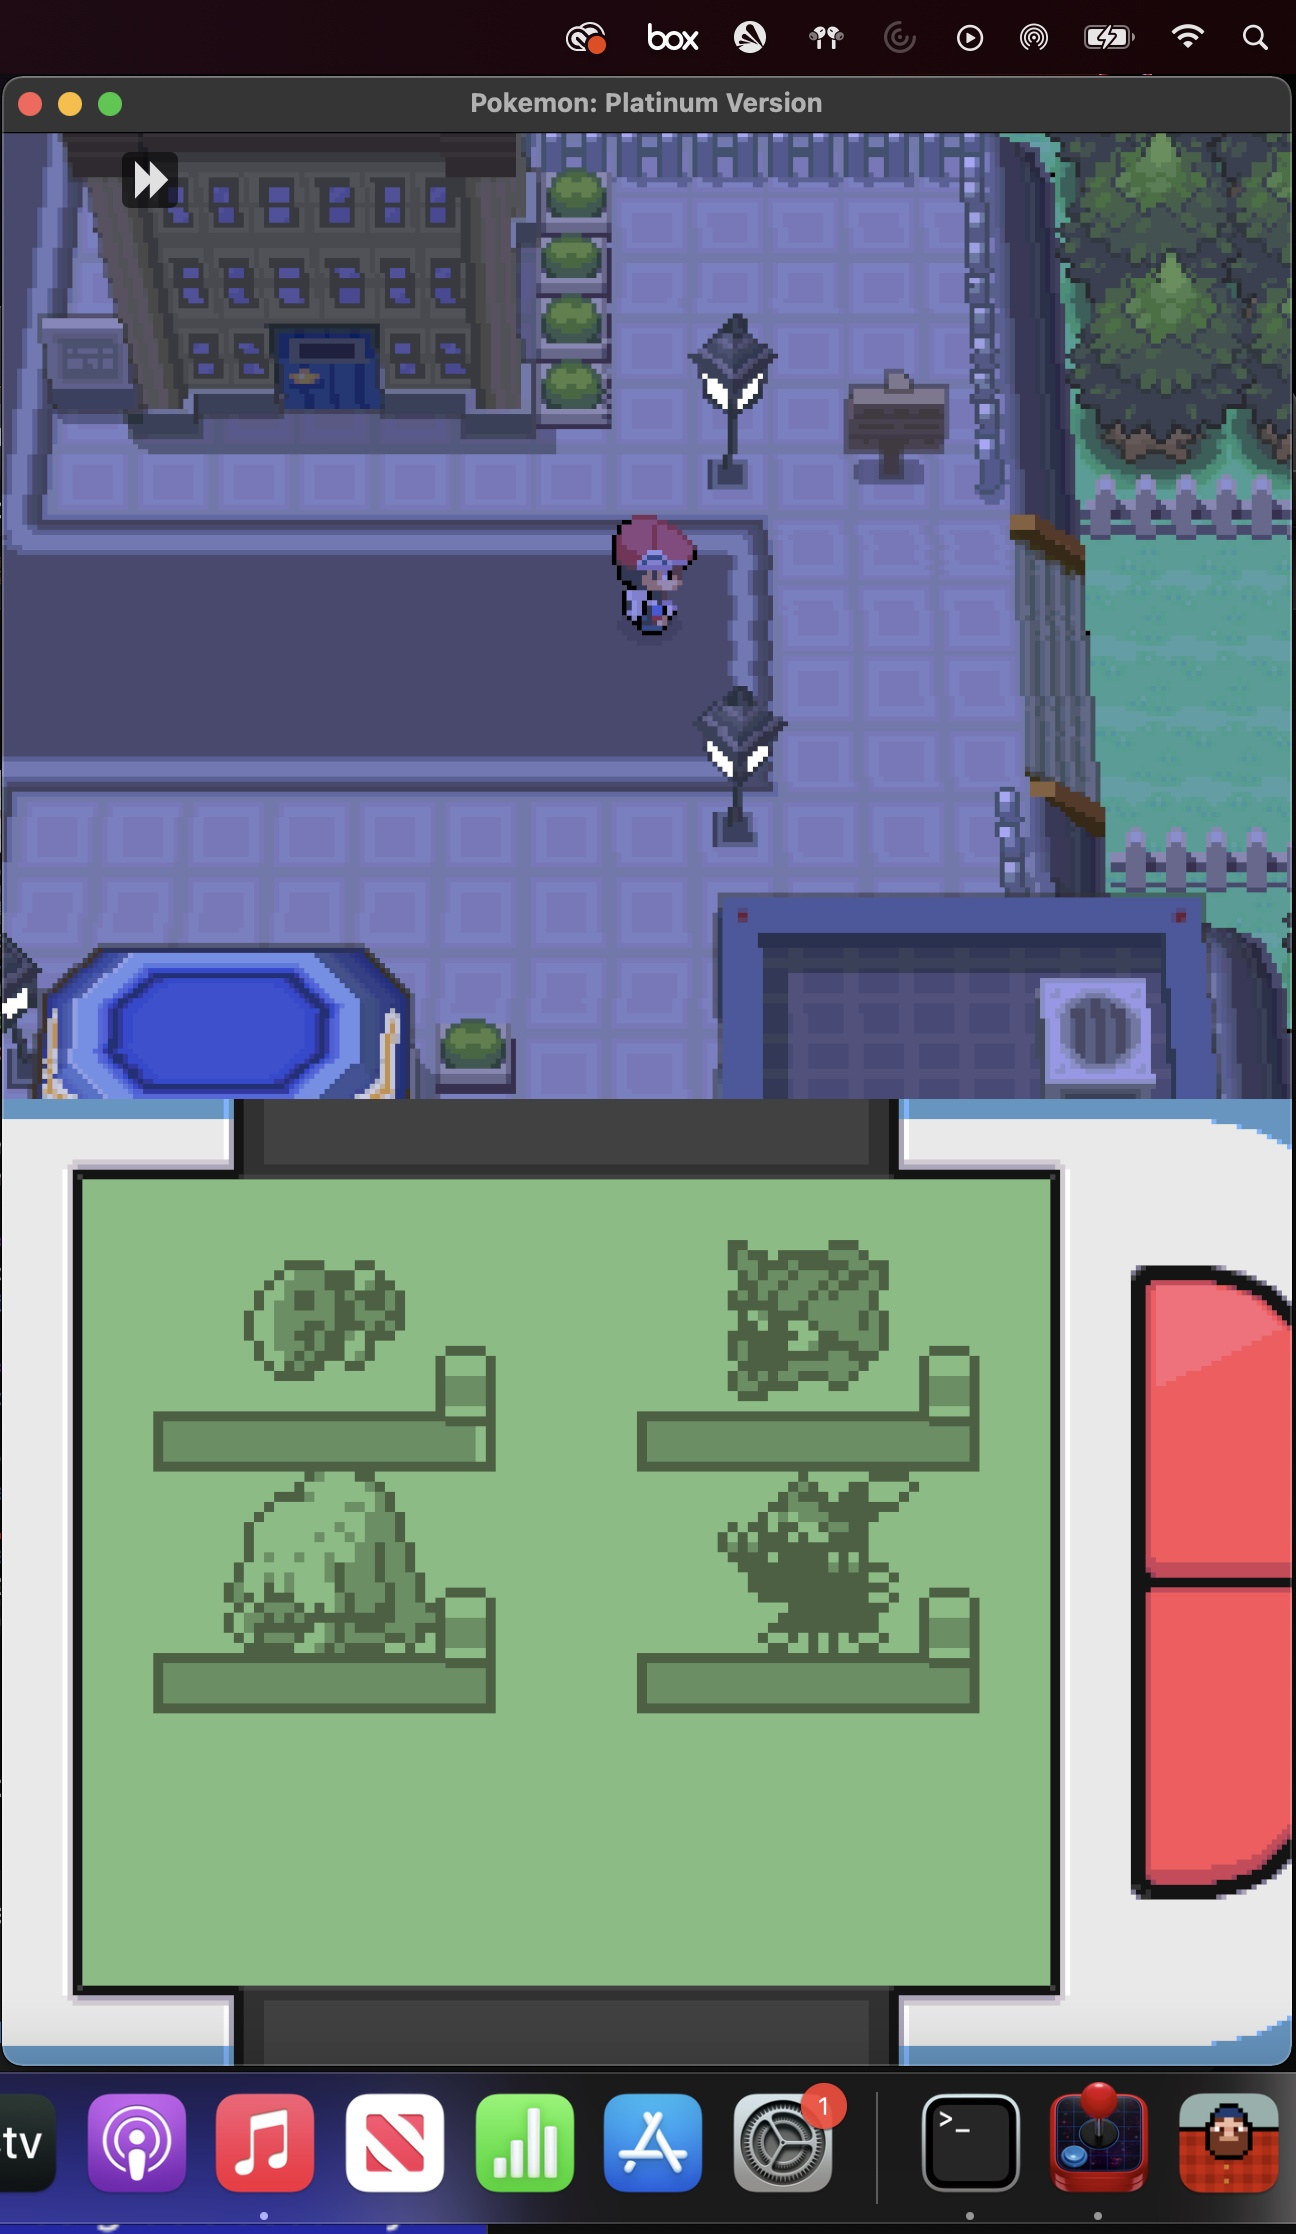player: (603, 512, 698, 638)
turn left: (677, 306, 987, 522)
